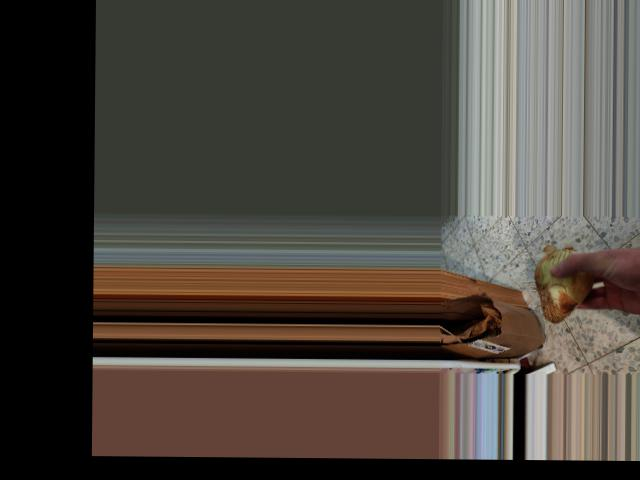onion: (526, 244, 599, 320)
